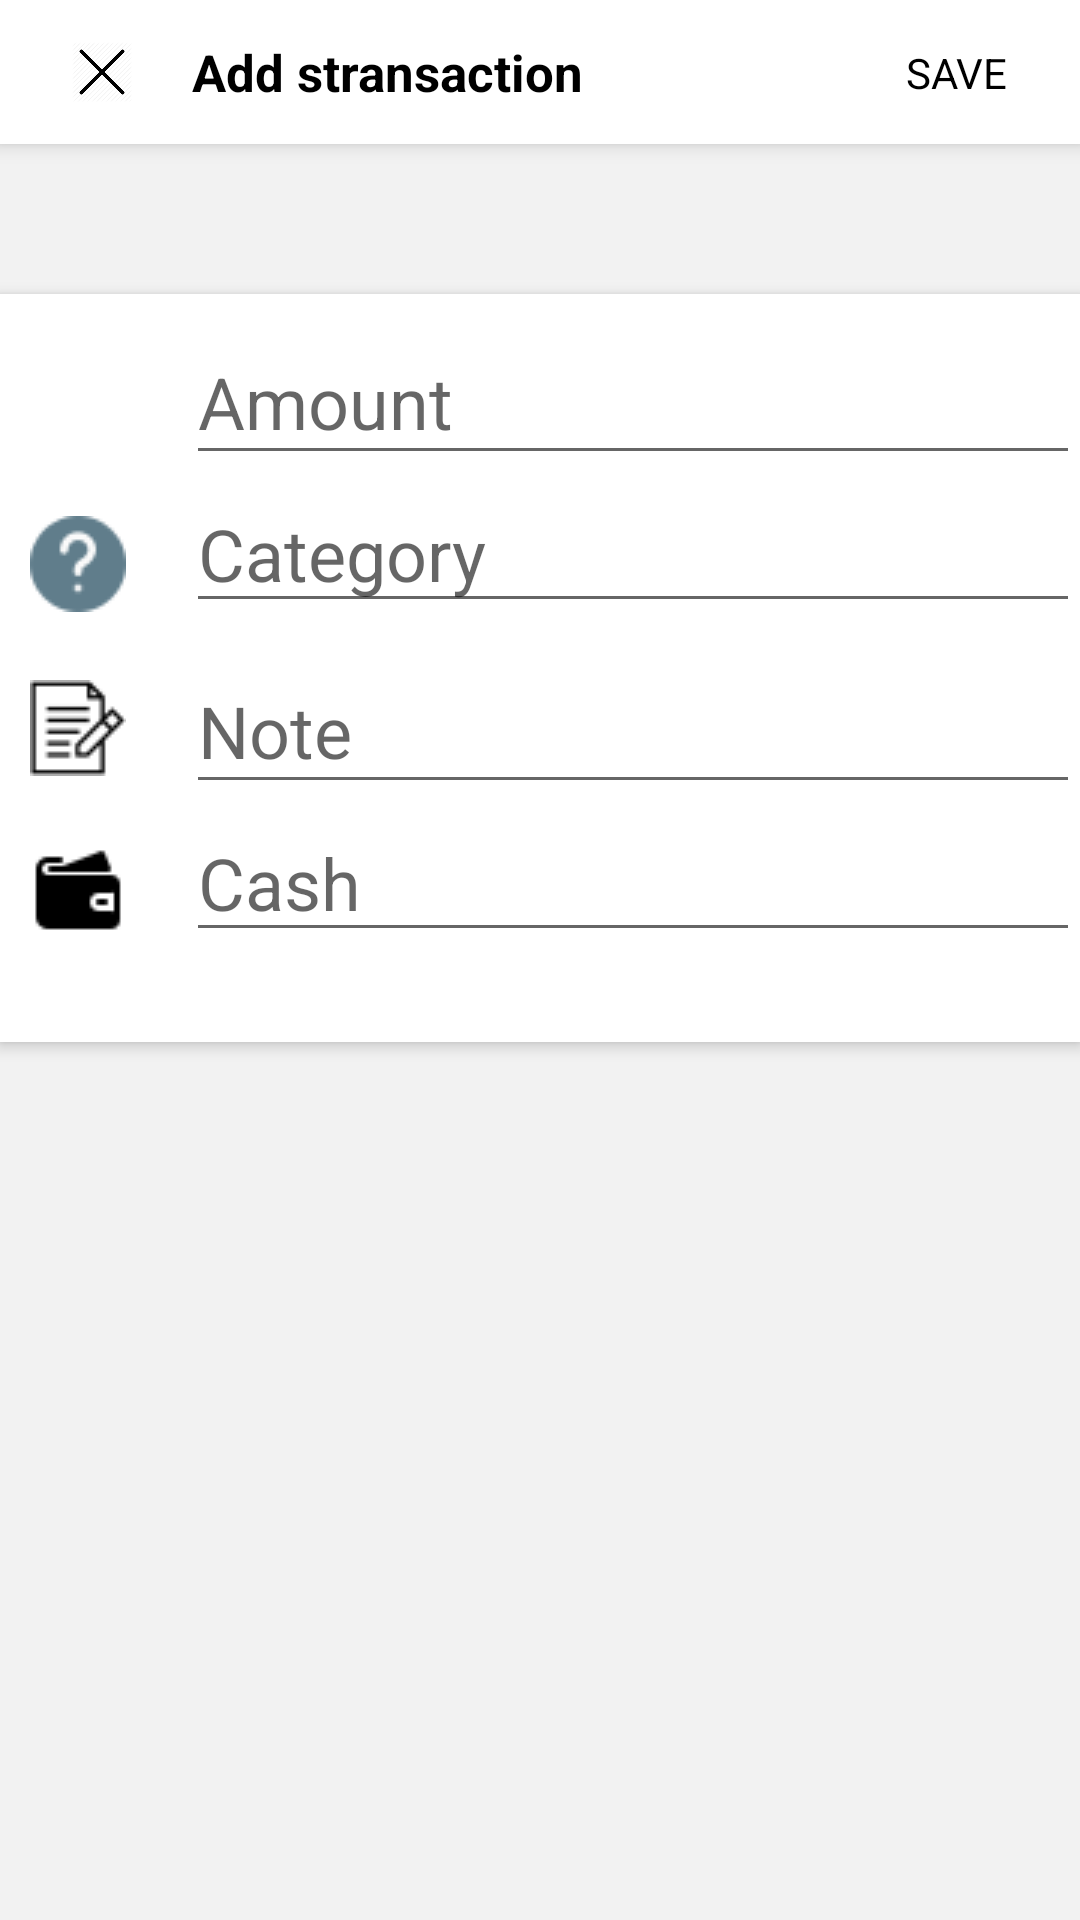

Where icons sit on this 1080px x 1920px app screen, as bbox=[x1, y1, x2, y2]:
close: bbox=[79, 49, 125, 95]
